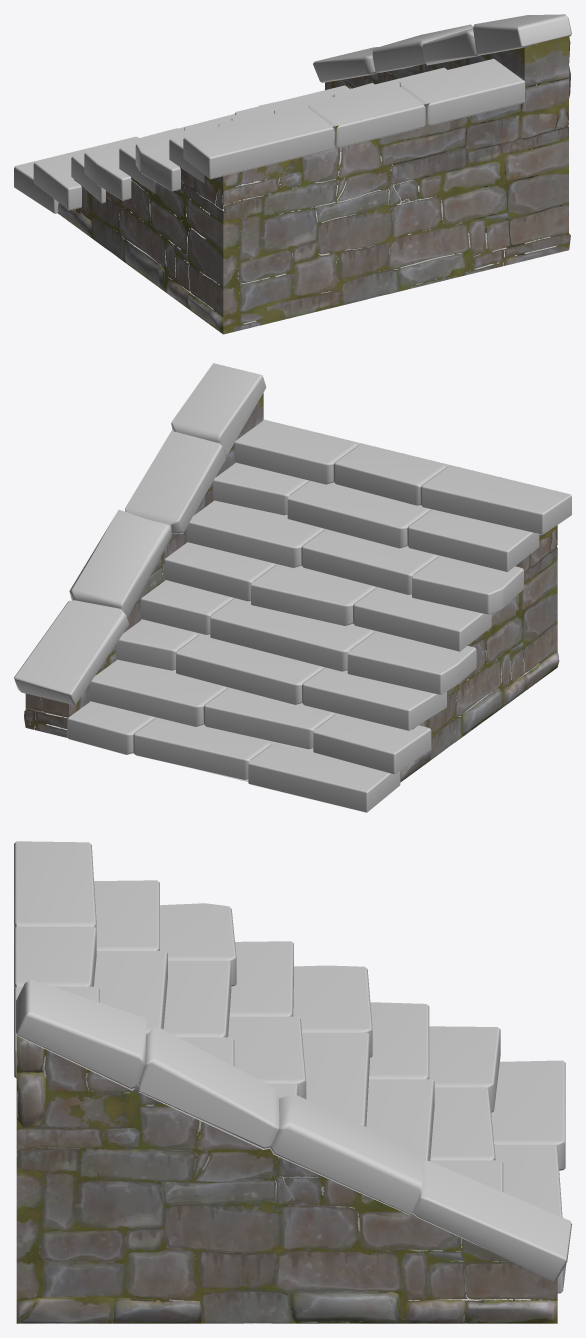
3 renders of one model, top to bottom at view 1: azimuth 30°, elevation 25°; view 2: azimuth 150°, elevation 25°; view 3: azimuth 270°, elevation 25°, orthographic. The views are drawn at different scales.
Visible parts, largest first — view 1: SM_Castle_Steps_4x2_01_v1_LOD0; view 2: SM_Castle_Steps_4x2_01_v1_LOD0; view 3: SM_Castle_Steps_4x2_01_v1_LOD0.
Boxes of the visible parts, <box> form: SM_Castle_Steps_4x2_01_v1_LOD0: <box>14,14,571,334</box>; SM_Castle_Steps_4x2_01_v1_LOD0: <box>14,363,571,812</box>; SM_Castle_Steps_4x2_01_v1_LOD0: <box>14,841,571,1323</box>.
Size of the model in its own units: 4.28 by 2.56 by 4.13.
